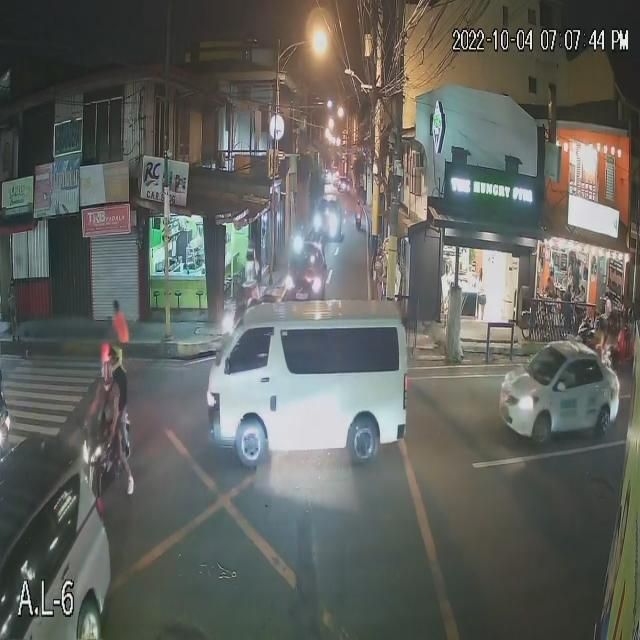helmet: (101, 363, 115, 390), (111, 347, 125, 368)
motorcycle: (83, 433, 135, 492)
rider: (94, 384, 122, 494), (113, 367, 133, 460)
